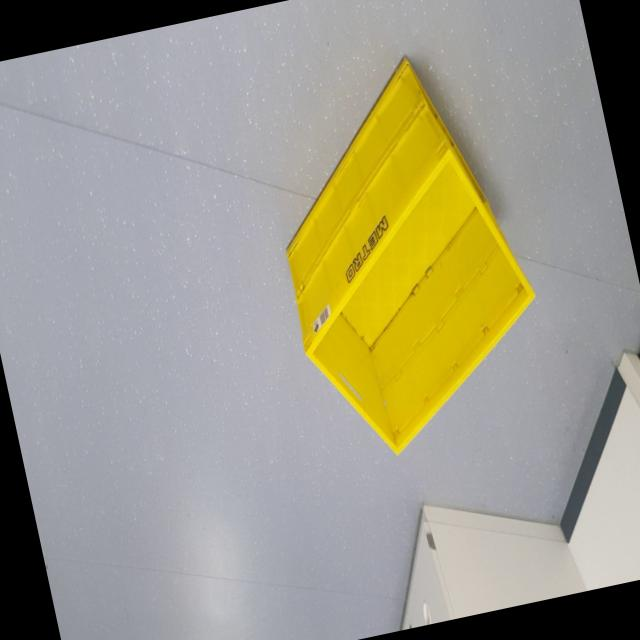box: (242, 37, 572, 472)
